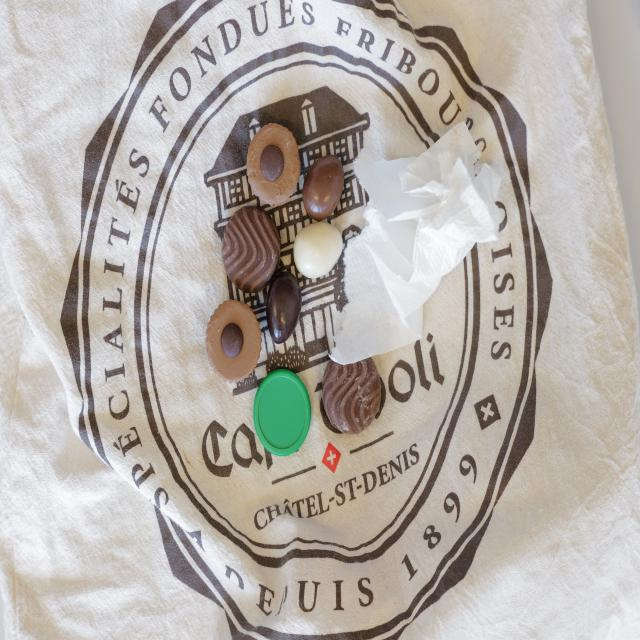Jelly_Black: (266, 269, 302, 343)
Jelly_Milk: (302, 154, 345, 218)
Jelly_White: (296, 221, 343, 275)
Noblesse: (206, 301, 262, 382), (247, 125, 300, 203)
Noir_authentique: (322, 347, 381, 434), (224, 202, 283, 288)
